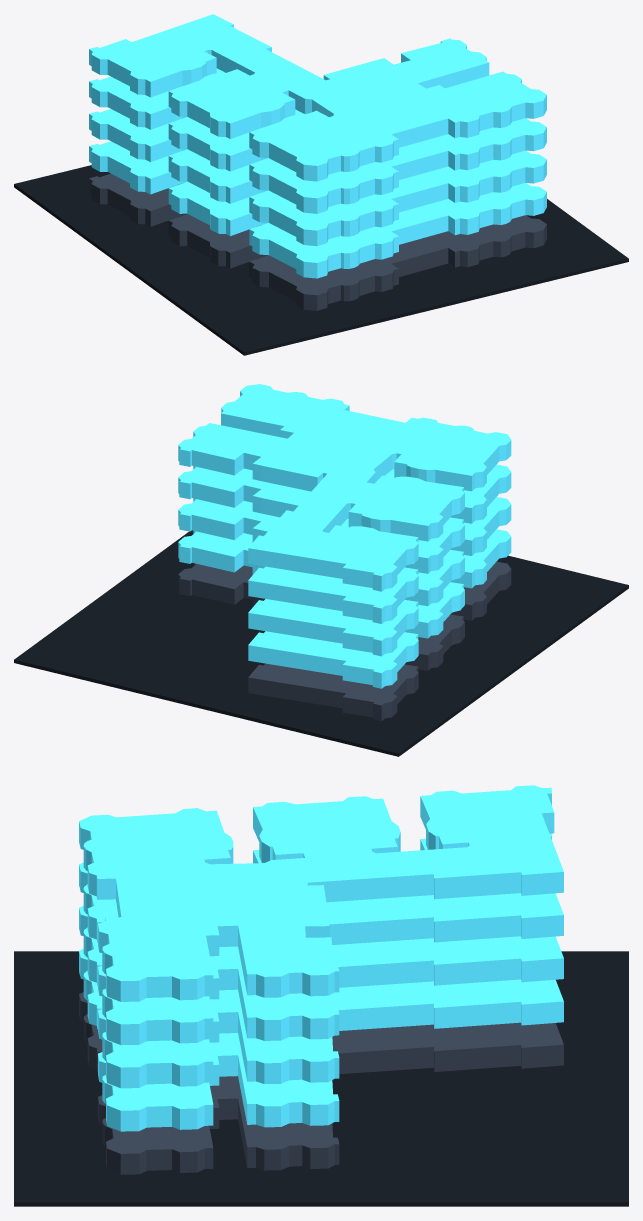
The picture shows the model from 3 angles, top to bottom: view 1: azimuth 30°, elevation 25°; view 2: azimuth 150°, elevation 25°; view 3: azimuth 270°, elevation 25°; orthographic projection. The views are drawn at different scales.
Parts seen in each view (by area): view 1: f4, Ground, f3, fB1, f2, f1; view 2: Ground, f4, f3, f2, f1, fB1; view 3: Ground, f4, f3, f2, f1, fB1.
Part boxes in pixels (<box>): f4: <box>89,14,546,181</box>; Ground: <box>14,165,628,355</box>; f3: <box>89,68,546,213</box>; fB1: <box>89,173,546,310</box>; f2: <box>89,109,546,246</box>; f1: <box>89,141,546,278</box>; Ground: <box>14,530,628,756</box>; f4: <box>178,384,511,591</box>; f3: <box>178,464,511,623</box>; f2: <box>178,497,511,656</box>; f1: <box>178,529,511,688</box>; fB1: <box>178,561,511,720</box>; Ground: <box>14,951,628,1206</box>; f4: <box>79,785,563,1001</box>; f3: <box>79,833,563,1045</box>; f2: <box>79,905,563,1088</box>; f1: <box>79,949,563,1131</box>; fB1: <box>79,992,563,1174</box>.
Bounding box in the file's own units: 0.2434 × 0.0896 × 0.2522.
